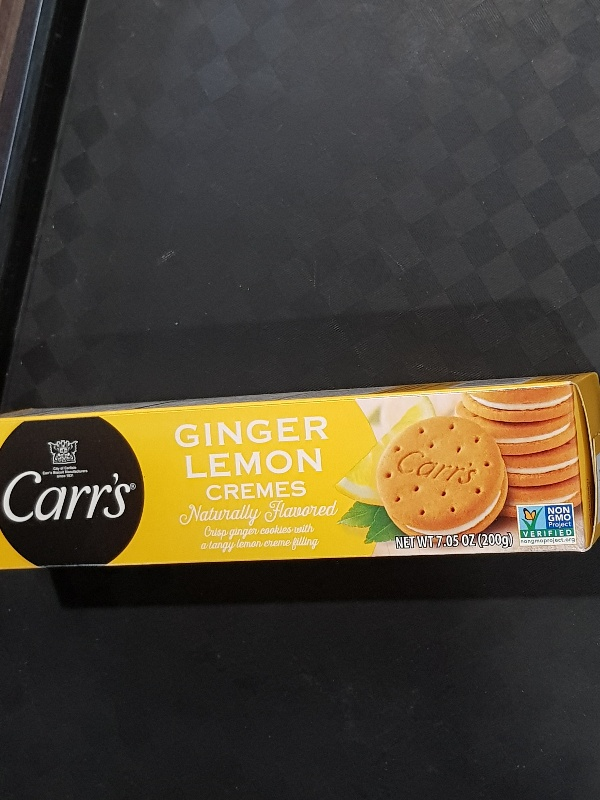Carr's Ginger Lemon Cremes: (1, 372, 600, 573)
